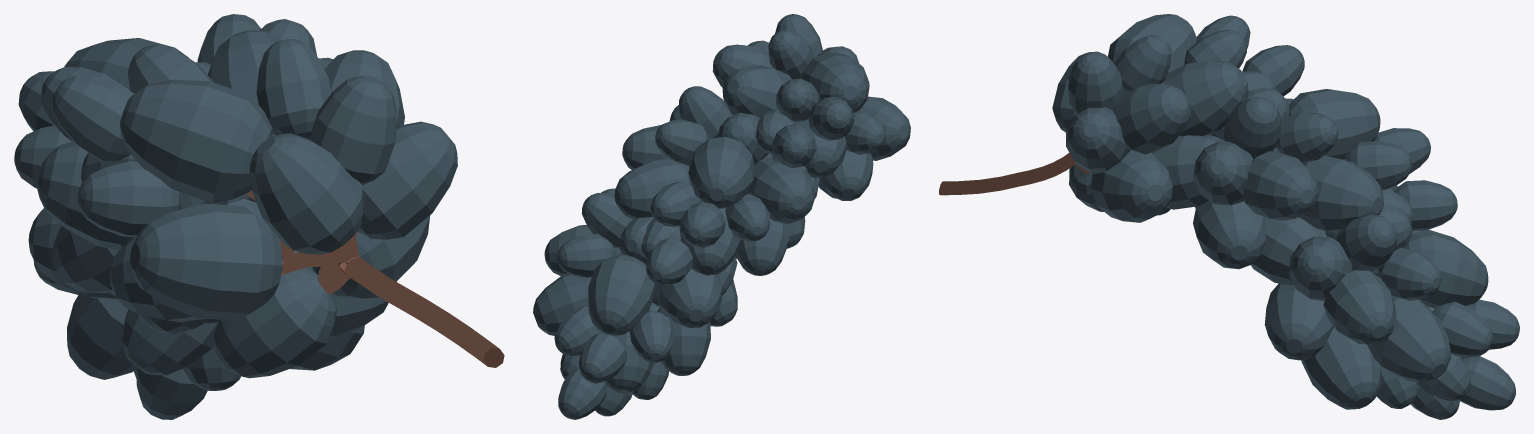
The model's file is dark-grapes-by-jarlan-perez-0H9ywN8GEca.glb.
3 renders of one model, left to right at view 1: azimuth 30°, elevation 25°; view 2: azimuth 150°, elevation 25°; view 3: azimuth 270°, elevation 25°, orthographic. The views are drawn at different scales.
Parts seen in each view (by area): view 1: Node; view 2: Node; view 3: Node.
Part boxes in pixels (bbox=[...]): Node: bbox=[14, 14, 504, 419]; Node: bbox=[533, 14, 910, 419]; Node: bbox=[939, 14, 1519, 419].
Bounding box in the file's own units: 0.89 × 1.03 × 1.54.
